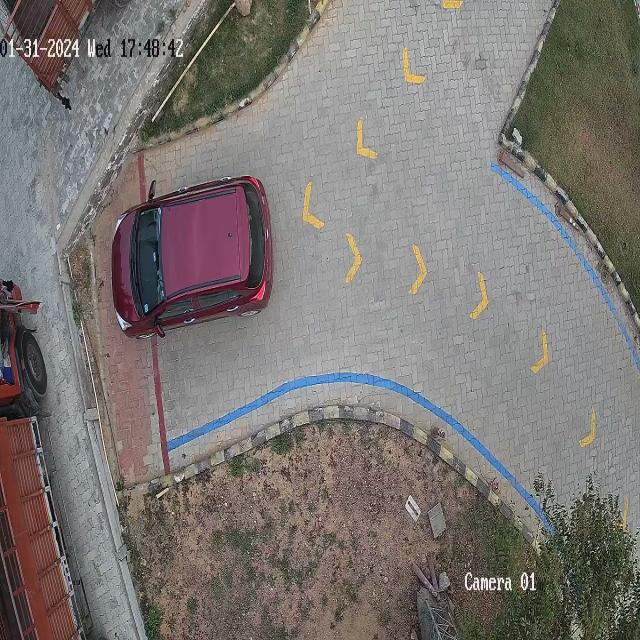car: (111, 174, 274, 339)
